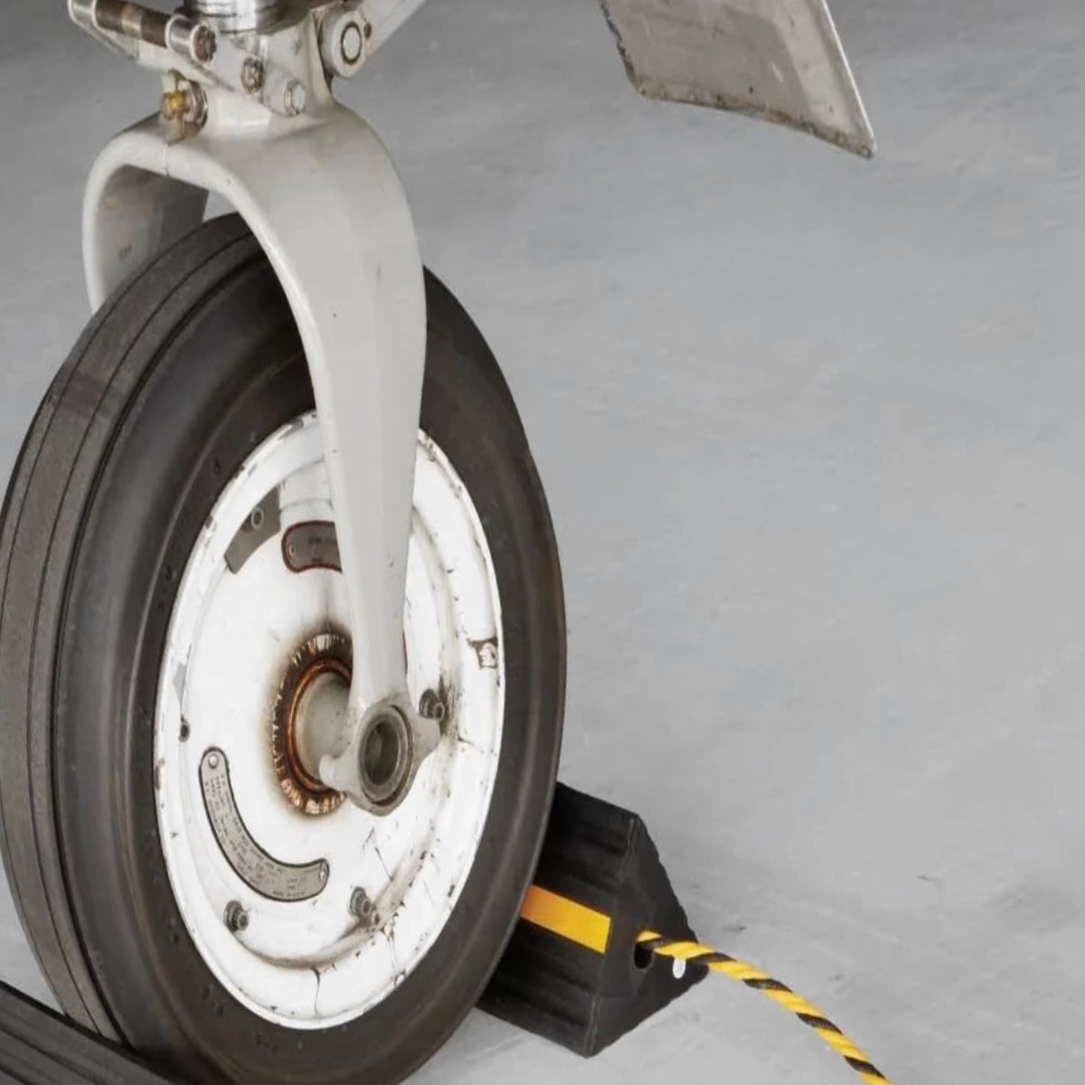chock: (295, 703, 734, 1085)
wheel: (0, 165, 644, 1085)
